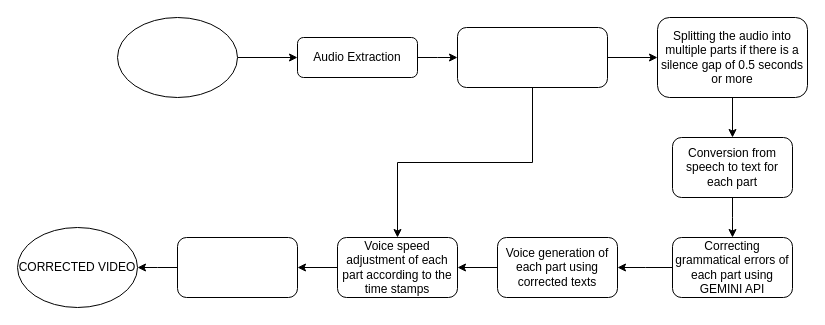
The diagram is 825 pixels wide and 325 high, and some of its shapes have lost their labels. The shapes that lost their labels are listed below. From the top down, each one's centre as x and y in pixels, then its label:
point 177,57: UPLOADED VIDEO
point 532,57: Finding time stamps of silence as well as voice
point 237,267: Merging new voice with the video at the respective time stamps
